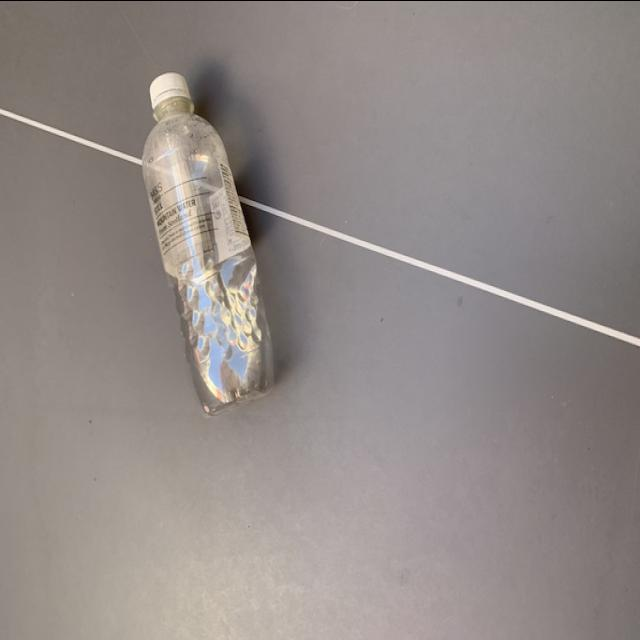litter: (136, 74, 278, 418)
